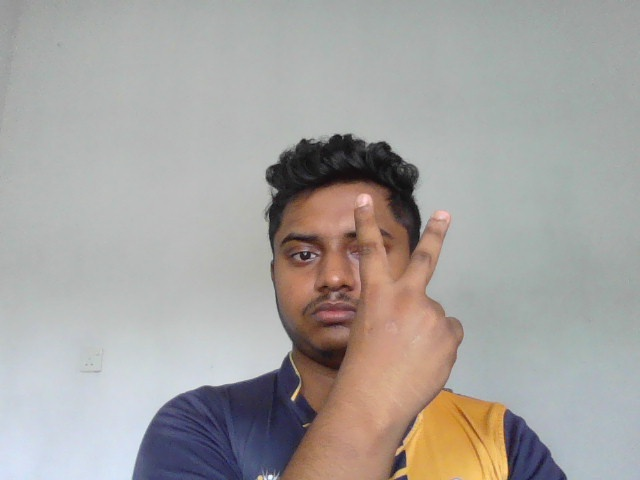See You: (338, 193, 466, 421)
